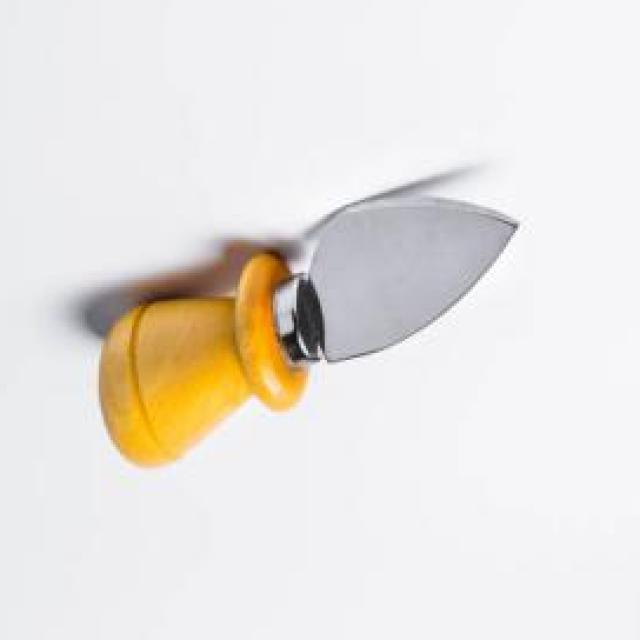knife: (94, 181, 521, 475)
